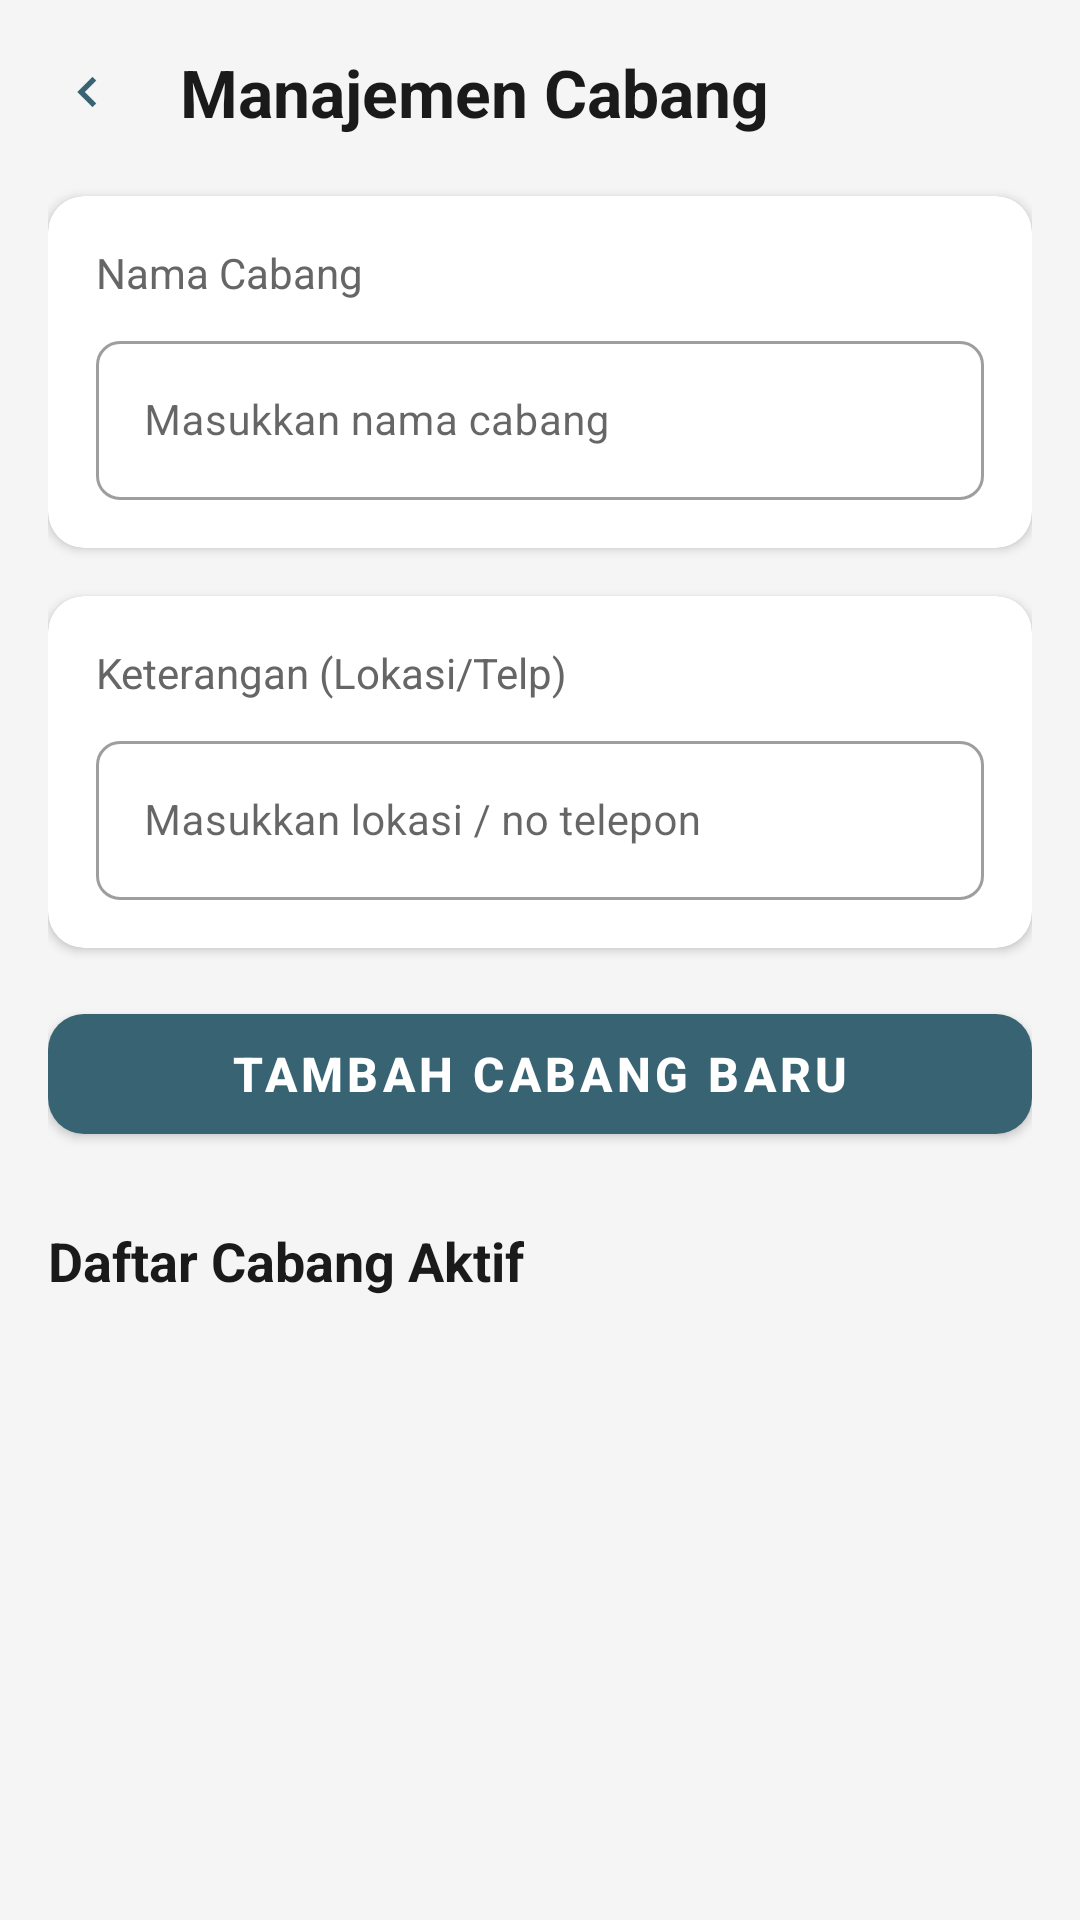

Point at icon controls on the screen. Image size 1080w x 1920h, points as [x,y].
Kembali: [86,92]
